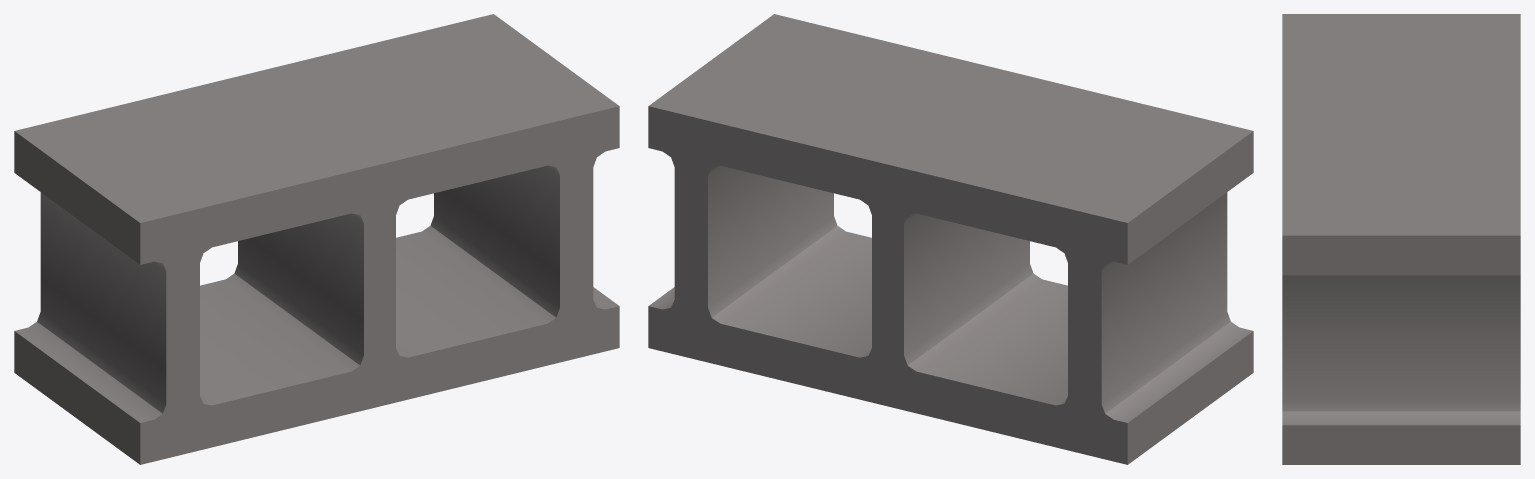
The model's file is cinder.glb.
The picture shows the model from 3 angles, left to right: view 1: azimuth 30°, elevation 25°; view 2: azimuth 150°, elevation 25°; view 3: azimuth 270°, elevation 25°; orthographic projection. The views are drawn at different scales.
Visible parts, largest first — view 1: CinderBlock; view 2: CinderBlock; view 3: CinderBlock.
Part boxes in pixels (x1,y1,x2,y2): CinderBlock: (14, 14, 619, 464); CinderBlock: (648, 14, 1253, 464); CinderBlock: (1282, 14, 1520, 464).
Bounding box in the file's own units: 0.4716 × 0.2274 × 0.2145.
1 material, 1 textured.
